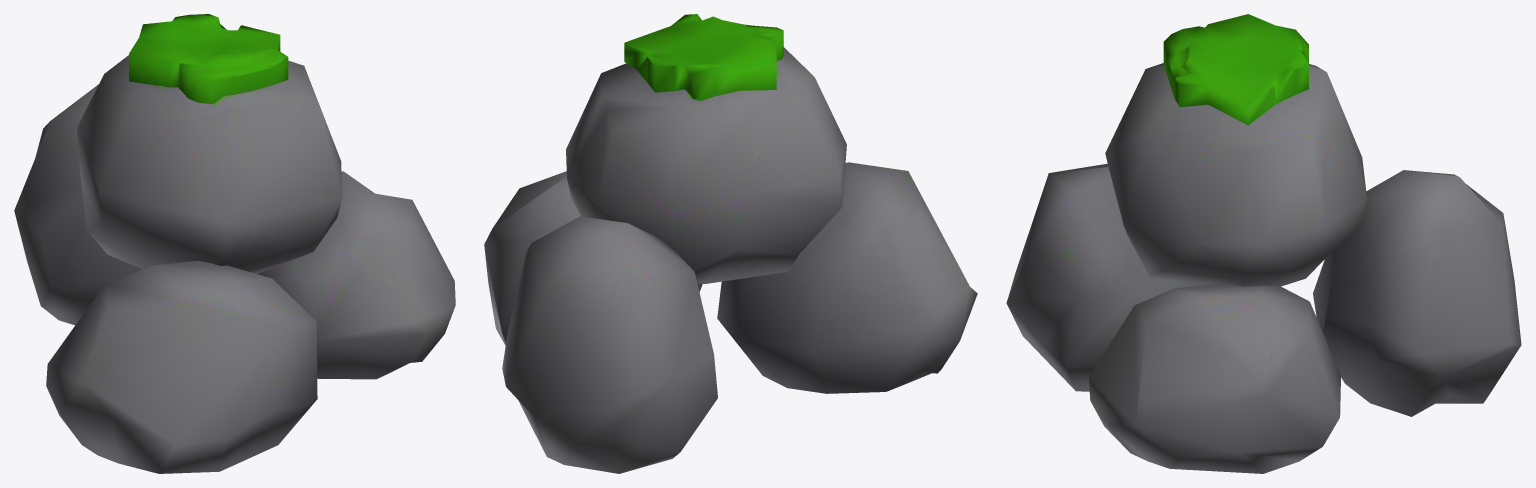
File: rock.glb
3 renders of one model, left to right at view 1: azimuth 30°, elevation 25°; view 2: azimuth 150°, elevation 25°; view 3: azimuth 270°, elevation 25°, orthographic.
Parts seen in each view (by area): view 1: tripo_node_5c597ff3-9633-41f3-bcef-59730595d9db; view 2: tripo_node_5c597ff3-9633-41f3-bcef-59730595d9db; view 3: tripo_node_5c597ff3-9633-41f3-bcef-59730595d9db.
Boxes of the visible parts, bbox=[...] form: tripo_node_5c597ff3-9633-41f3-bcef-59730595d9db: bbox=[14, 14, 455, 473]; tripo_node_5c597ff3-9633-41f3-bcef-59730595d9db: bbox=[484, 14, 977, 473]; tripo_node_5c597ff3-9633-41f3-bcef-59730595d9db: bbox=[1006, 14, 1521, 473].
Bounding box in the file's own units: 0.9355 × 0.7598 × 0.998.
1 material, 1 textured.
